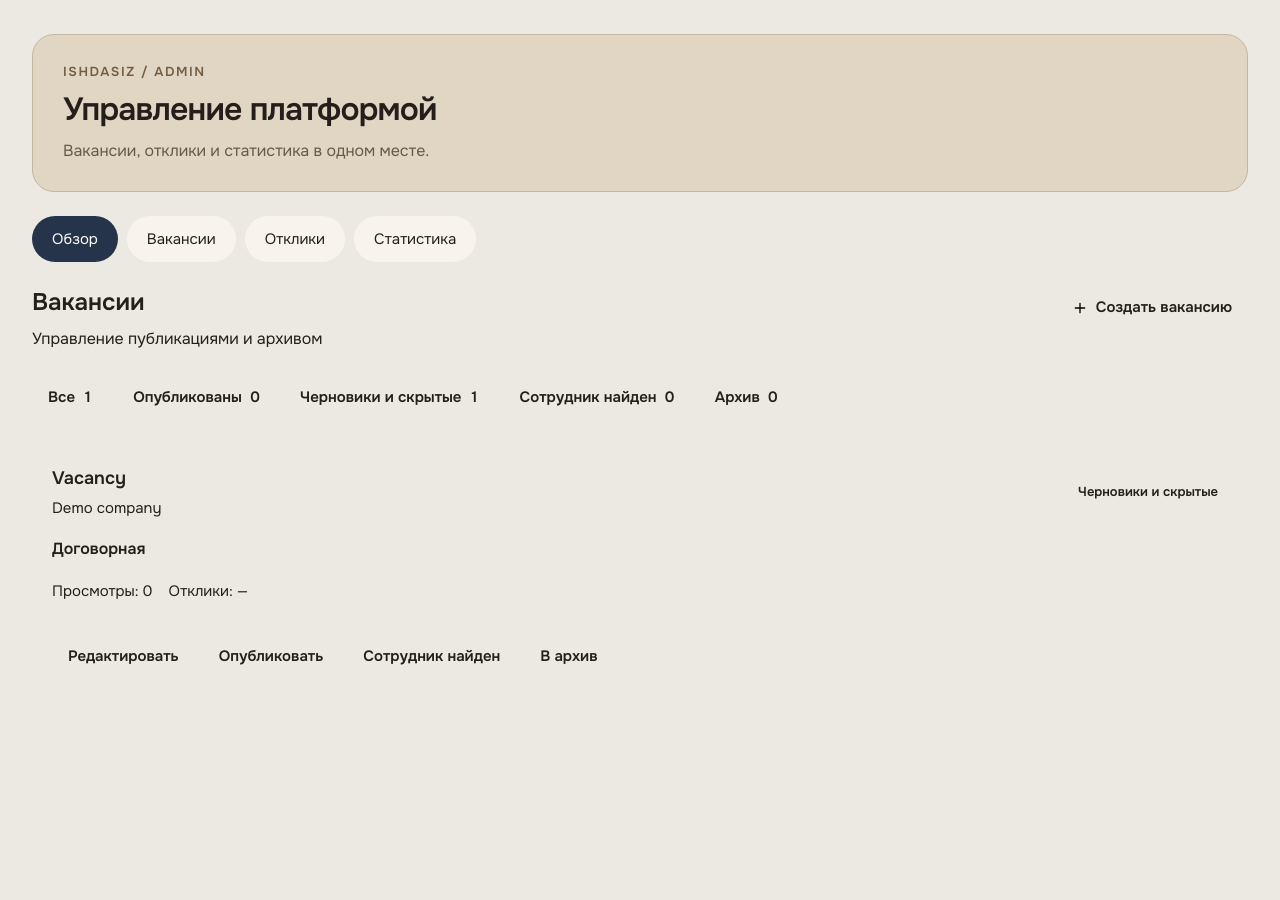
Test case: admin vacancy list uses administrative links and shows localized errors rather than employer-role instructions
This screenshot has width=1280, height=900.
Check: the heading "Vacancy" is shown, box [52,467,126,489]
Click the button "Опубликовать".
click(271, 657)  # box [203,635,339,679]
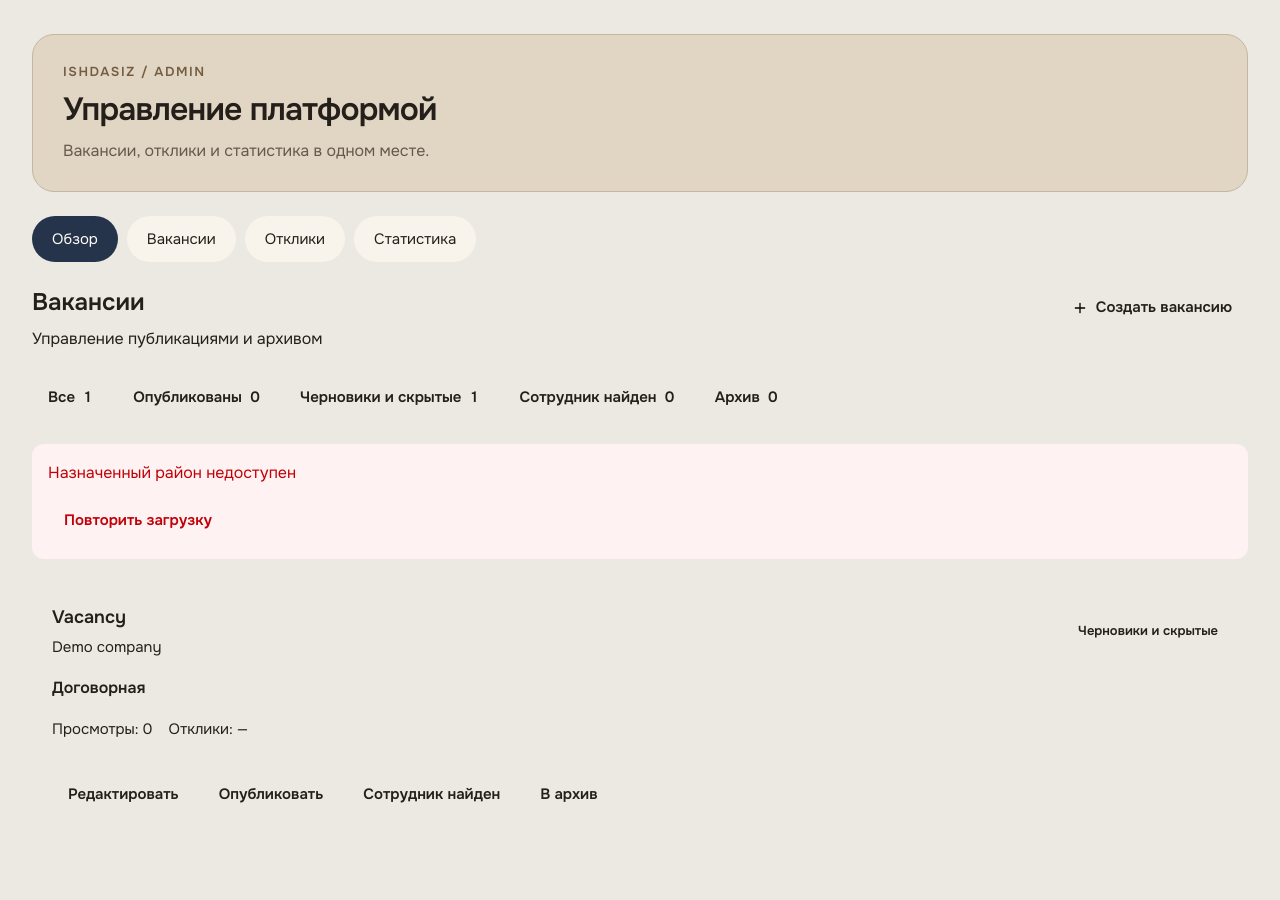
Check: the message shows "Назначенный район недоступен", box [48,462,296,483]
